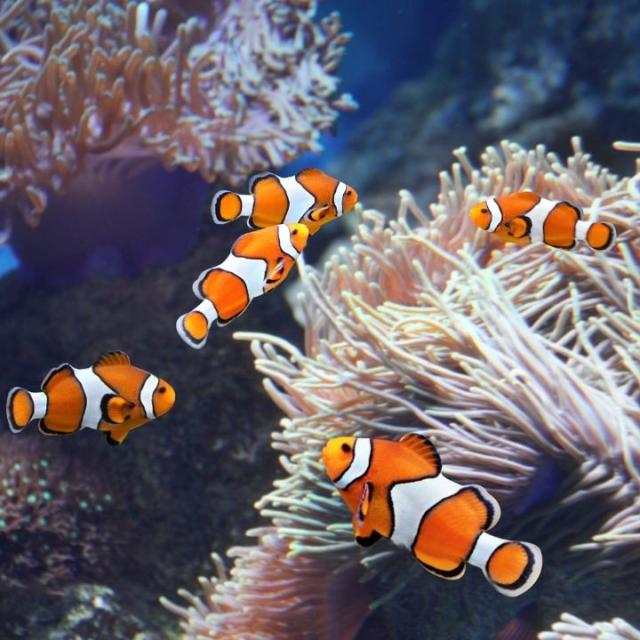ClownFish: (318, 431, 545, 597), (175, 222, 309, 350), (8, 347, 175, 441), (471, 188, 614, 256), (211, 168, 361, 228)
